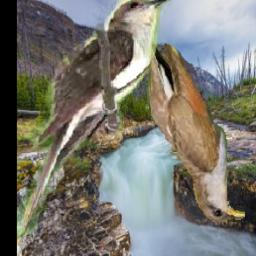Cuckoo: (17, 0, 172, 238), (130, 0, 248, 223)
